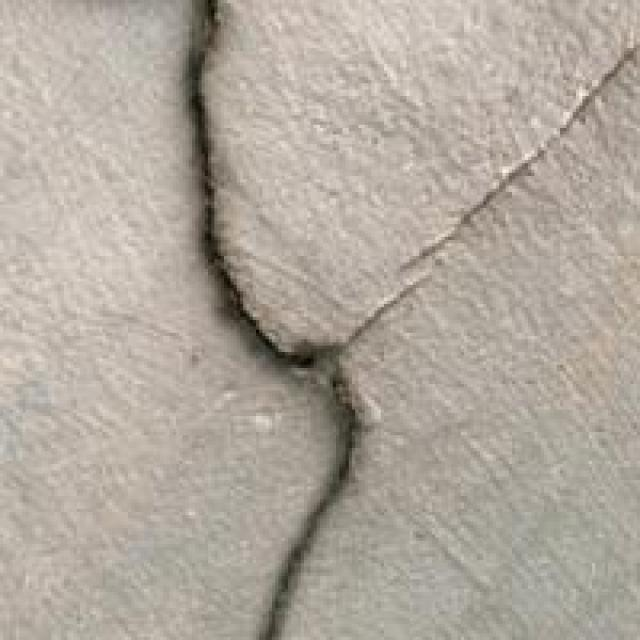crack: (118, 0, 426, 637)
